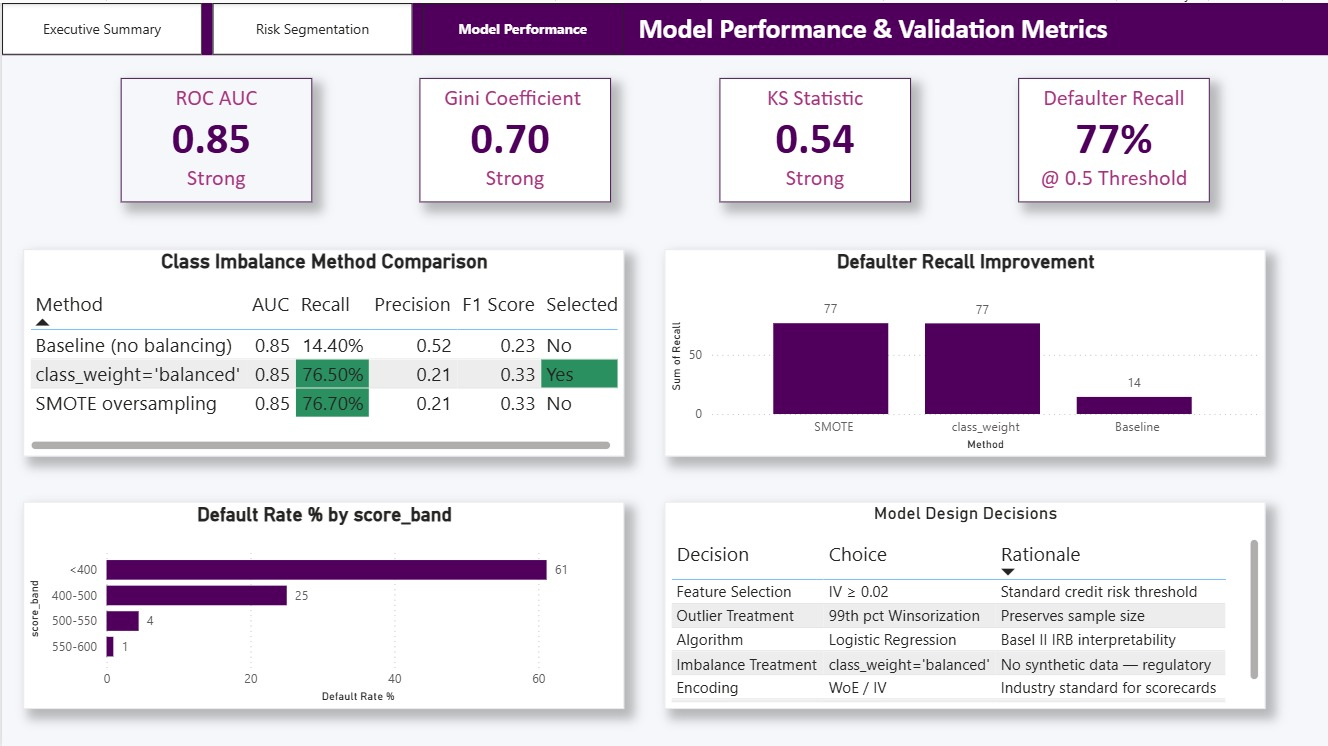

This screenshot's page, from the dashboard's own definition file:
{"tool":"powerbi","page":{"name":"Model Performance","canvas":[1280,720],"ordinal":2},"visuals":[{"type":"textbox","box":[0,0,1280,50],"z":0},{"type":"textbox","box":[114.4,72.5,185,120],"z":1000,"group":"g1"},{"type":"tableEx","title":"Class Imbalance Method Comparison","fields":{"Values":["ImbalanceComparison.Method","ImbalanceComparison.AUC","ImbalanceComparison.Recall","ImbalanceComparison.Precision","ImbalanceComparison.F1 Score","ImbalanceComparison.Selected"]},"box":[20,237.5,580,200],"z":1000},{"type":"textbox","box":[403.2,72.5,185,120],"z":2000,"group":"g1"},{"type":"clusteredColumnChart","title":"Defaulter Recall Improvement","fields":{"Category":["RecallData.Method"],"Y":["Sum(RecallData.Recall)"]},"box":[640,237.5,580,200],"z":2000},{"type":"textbox","box":[691.9,72.5,185,120],"z":3000,"group":"g1"},{"type":"clusteredBarChart","fields":{"Category":["scored_customers_final.score_band"],"Y":["scored_customers_final.Default Rate %"]},"box":[20,481.2,580,200],"z":3000},{"type":"textbox","box":[980.6,72.5,185,120],"z":4000,"group":"g1"},{"type":"tableEx","title":"Model Design Decisions","fields":{"Values":["Methodology.Decision","Methodology.Choice","Methodology.Rationale"]},"box":[640,481.2,580,200],"z":4000},{"type":"pageNavigator","box":[0,0,600,50],"z":5000},{"type":"group","id":"g1","title":"Group 1","box":[114.4,72.5,1051.2,120],"z":6000}]}

Visuals, with their boxes in screenshot pixels (x1, y1, x2, y2), scaled from the page's 1280x720 canvas onto the 1328x746 screenshot:
textbox: select_region(0, 0, 1327, 52)
textbox: select_region(119, 75, 311, 199)
"Class Imbalance Method Comparison" tableEx: select_region(21, 246, 622, 453)
textbox: select_region(418, 75, 610, 199)
"Defaulter Recall Improvement" clusteredColumnChart: select_region(664, 246, 1266, 453)
textbox: select_region(718, 75, 910, 199)
clusteredBarChart - scored_customers_final.score_band x scored_customers_final.Default Rate %: select_region(21, 499, 622, 706)
textbox: select_region(1017, 75, 1209, 199)
"Model Design Decisions" tableEx: select_region(664, 499, 1266, 706)
pageNavigator: select_region(0, 0, 622, 52)
"Group 1" group: select_region(119, 75, 1209, 199)
